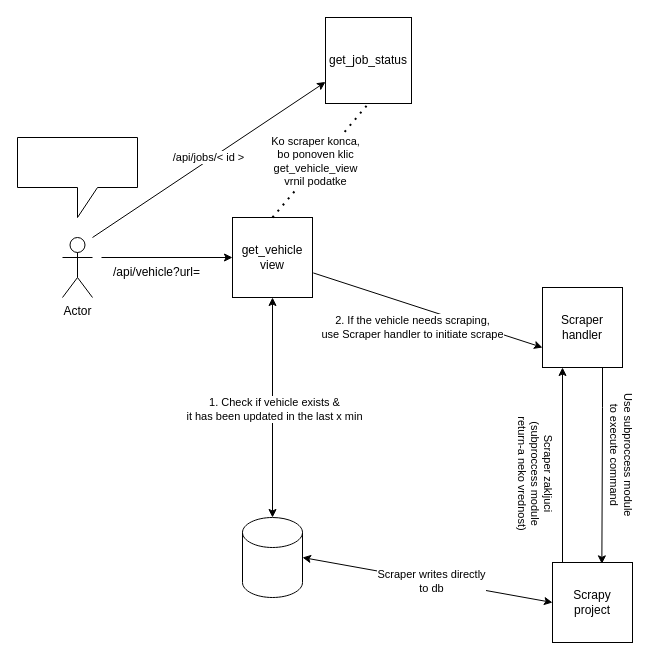
This 652x660 diagram has some shape labels left out. Each missing label, with the centre of its shape:
< avto.net url >: the point at 77,177
DB: the point at 272,557
